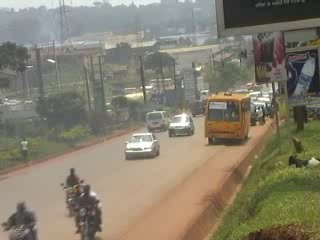Car: (122, 130, 161, 162), (166, 111, 195, 138)
Motorcycle: (71, 184, 106, 239), (0, 198, 41, 240), (58, 166, 84, 216)
